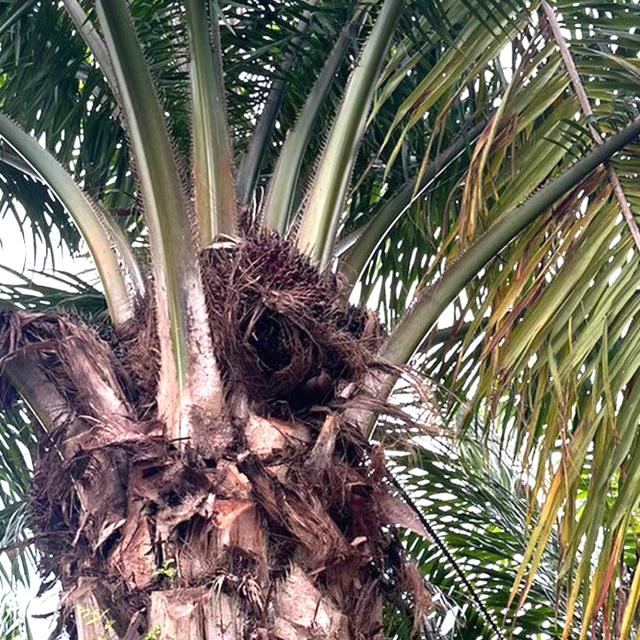ripe: (204, 220, 339, 309)
